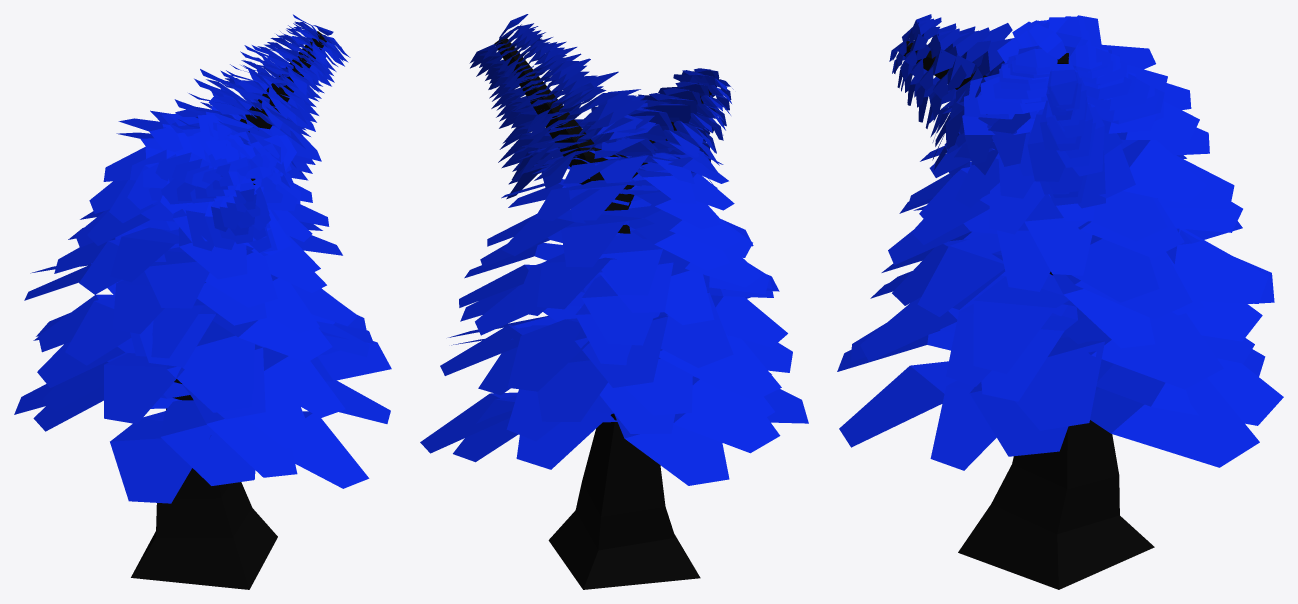
Rendered from Tree3.fbx.
3 views of the same model, side by side, from view 1: azimuth 30°, elevation 25°; view 2: azimuth 150°, elevation 25°; view 3: azimuth 270°, elevation 25° (orthographic). The views are drawn at different scales.
Parts seen in each view (by area): view 1: Tree 3 Leaves; view 2: Tree 3 Leaves; view 3: Tree 3 Leaves.
Boxes of the visible parts, box(x1,y1,x2,y2) form: Tree 3 Leaves: box(14, 14, 391, 589); Tree 3 Leaves: box(420, 14, 808, 589); Tree 3 Leaves: box(837, 14, 1283, 589).
Size of the model in its own units: 4.74 by 7.01 by 4.85.
